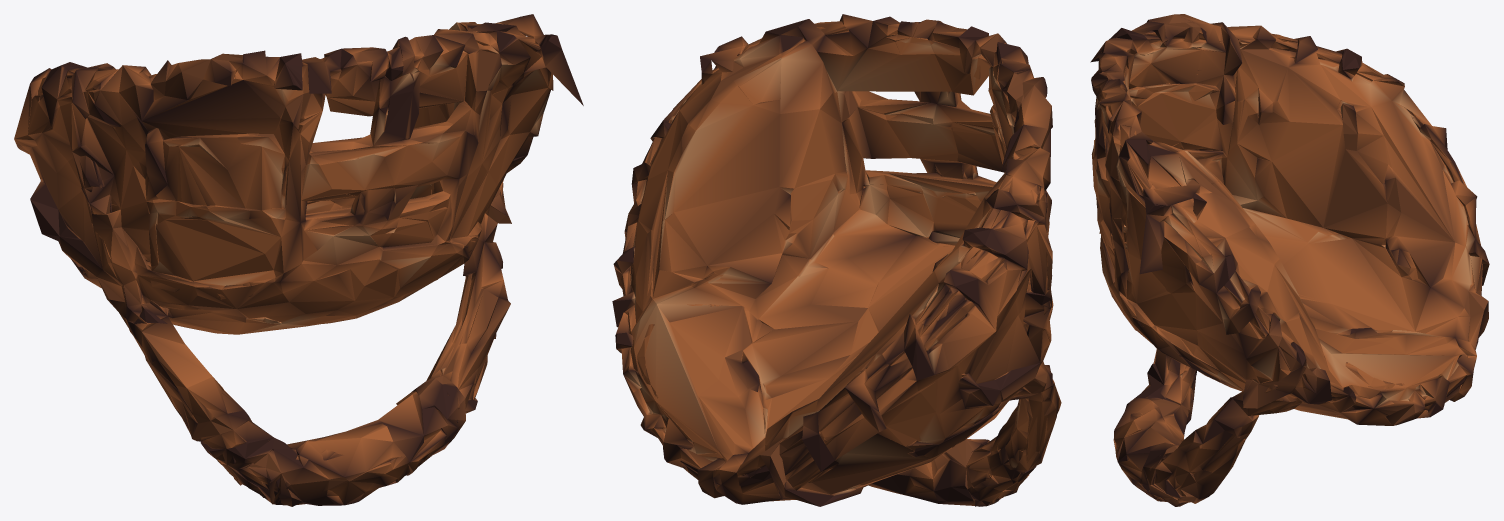
File: mitt.glb
The picture shows the model from 3 angles, left to right: view 1: azimuth 30°, elevation 25°; view 2: azimuth 150°, elevation 25°; view 3: azimuth 270°, elevation 25°; orthographic projection. The views are drawn at different scales.
Bounding box in the file's own units: 1.86 × 1.87 × 1.61.
